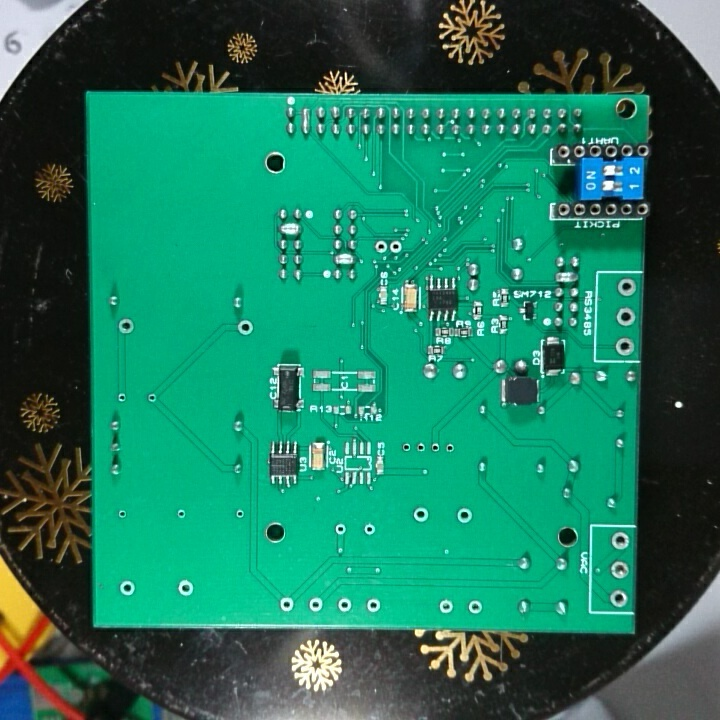F: (606, 583, 630, 612), (116, 576, 139, 603), (608, 529, 633, 553), (173, 576, 197, 600), (608, 558, 631, 582), (615, 304, 636, 330), (115, 315, 136, 340), (616, 275, 636, 300), (614, 337, 636, 359), (463, 596, 484, 618), (362, 595, 382, 617), (235, 318, 256, 338), (277, 593, 296, 615), (333, 595, 355, 613), (436, 595, 454, 614), (410, 504, 424, 528), (443, 439, 459, 460), (455, 505, 470, 527), (307, 596, 326, 612), (373, 236, 387, 257), (144, 388, 159, 407), (387, 238, 403, 255), (362, 520, 377, 538), (333, 521, 348, 539), (413, 438, 426, 458), (114, 390, 130, 406), (175, 506, 190, 523), (399, 440, 413, 458), (428, 439, 441, 457), (233, 506, 246, 523), (117, 506, 128, 524)
P: (299, 104, 313, 140), (553, 270, 583, 286), (277, 220, 303, 238), (332, 252, 356, 267)
